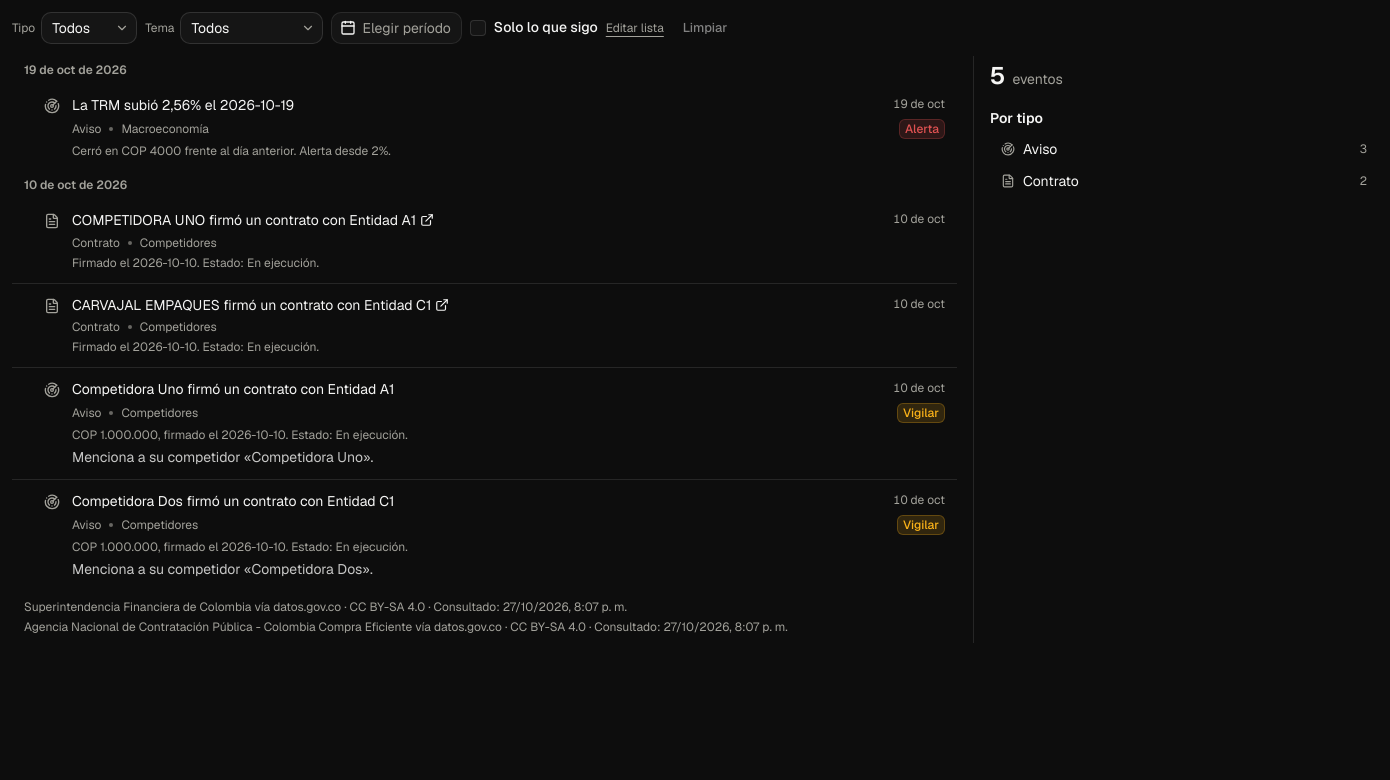
Test: TimelineView › filters events to what the user follows (RF-15)
Expected: the link "CARVAJAL EMPAQUES firmó un contrato con Entidad C1" is shown, [72,296,449,315]
Expected: the button "La TRM subió 2,56% el 2026-10-19" is shown, [72,96,294,115]
What coordinates should you click on to do the following:
click the checkbox named "Solo lo que sigo"
I would click on:
 (478, 28)
Its box is [470,20,486,36].
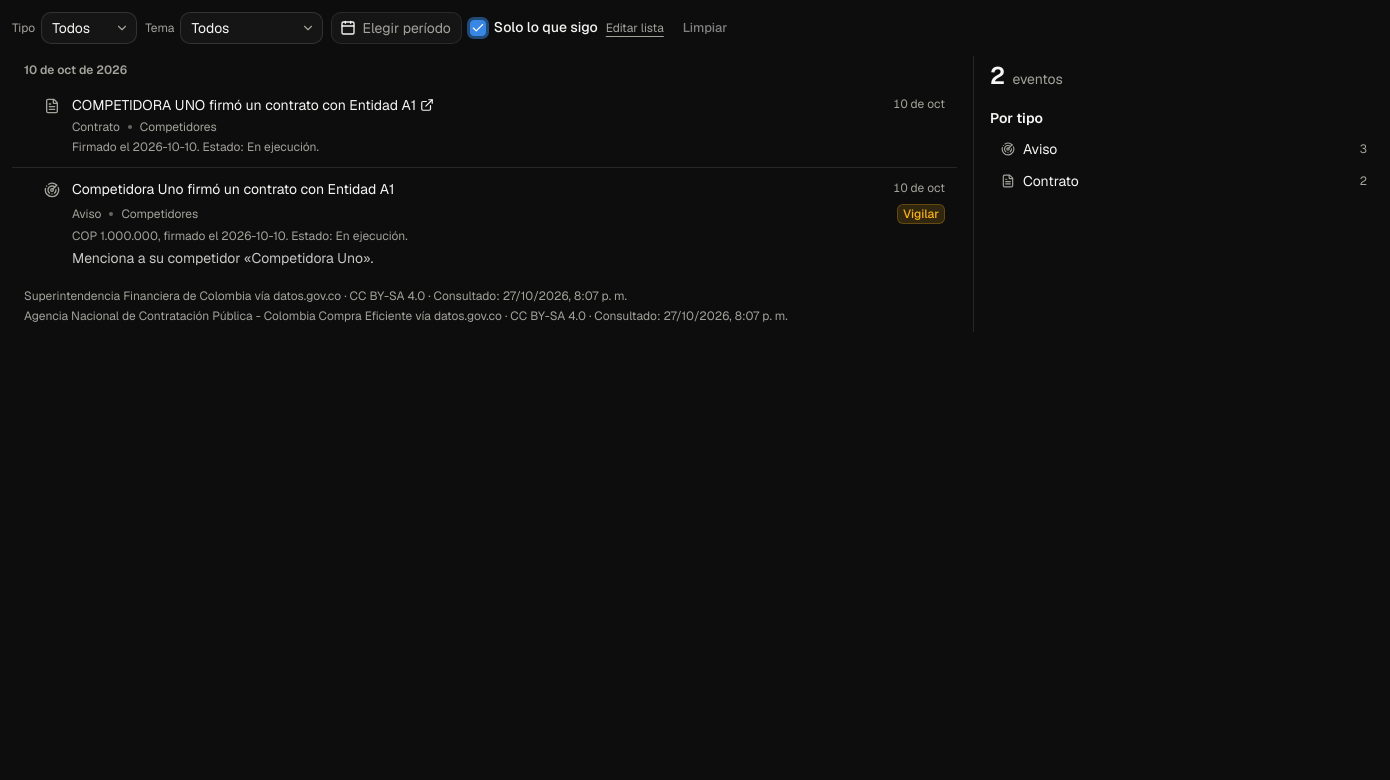
Expected: the link "COMPETIDORA UNO firmó un contrato con Entidad A1" is shown, [72,96,434,115]
Now the link "CARVAJAL EMPAQUES firmó" is gone
Now the button "La TRM subió 2,56% el 2026-10-19" is gone
